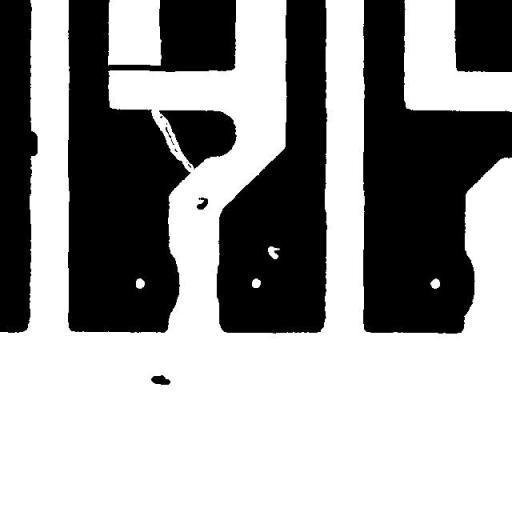copper: (143, 367, 178, 392), (189, 190, 215, 216)
open: (143, 102, 202, 180)
pin-hole: (260, 238, 287, 266)
short: (94, 57, 176, 78)
spur: (18, 123, 44, 163)
